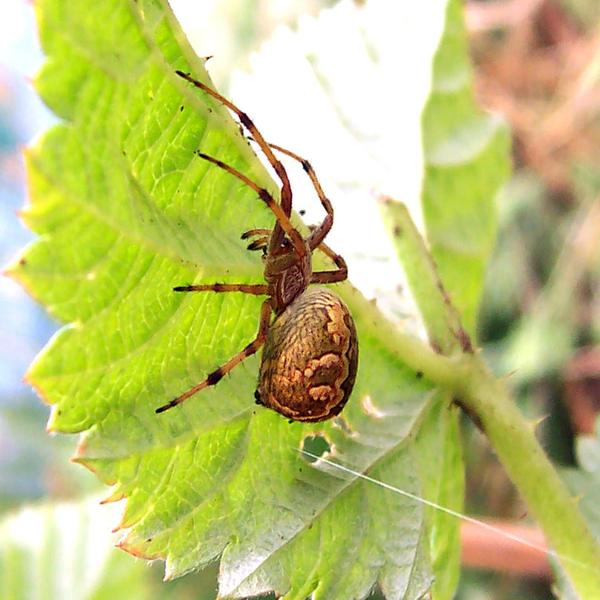Garden Orb Weaver Spider: (162, 72, 365, 452)
